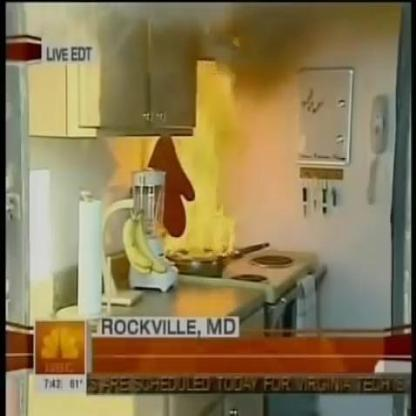fire: (145, 60, 250, 257)
